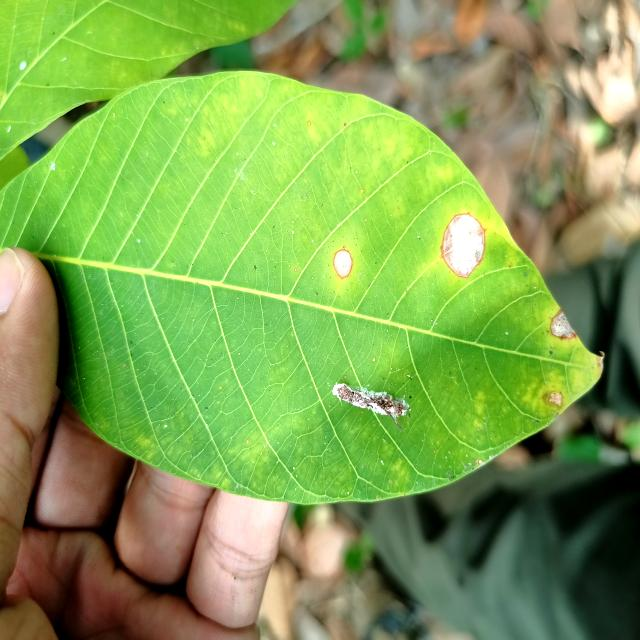Colletotrichum: (440, 212, 486, 279), (332, 249, 353, 279), (294, 268, 296, 272)
Leaf-Blight: (551, 311, 575, 337)
